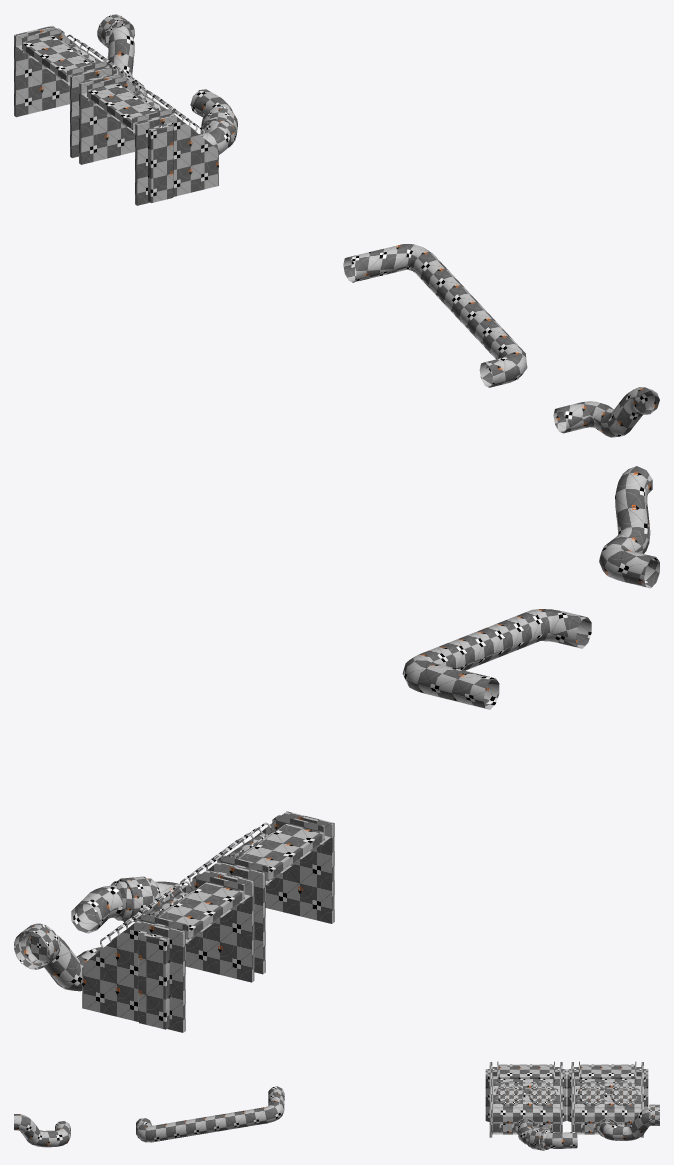
The model's file is Props_08.FBX.
The picture shows the model from 3 angles, top to bottom: view 1: azimuth 30°, elevation 25°; view 2: azimuth 150°, elevation 25°; view 3: azimuth 270°, elevation 25°; orthographic projection. The views are drawn at different scales.
Parts seen in each view (by area): view 1: Object36272, Object36274, Object36273, Object36275, Object36276, Object36277; view 2: Object36273, Object36272, Object36274, Object36275, Object36276, Object36277, Object36278; view 3: Object36272, Object36273, Object36274, Object36276, Object36275, Object36277, Object36278.
Boxes of the visible parts, x1=… form: Object36272: x1=79, y1=73, x2=218, y2=205; Object36274: x1=343, y1=244, x2=527, y2=387; Object36273: x1=14, y1=25, x2=139, y2=157; Object36275: x1=553, y1=387, x2=659, y2=437; Object36276: x1=190, y1=89, x2=237, y2=154; Object36277: x1=107, y1=25, x2=147, y2=95; Object36273: x1=82, y1=870, x2=254, y2=1032; Object36272: x1=180, y1=811, x2=334, y2=974; Object36274: x1=402, y1=609, x2=591, y2=709; Object36275: x1=599, y1=466, x2=659, y2=588; Object36276: x1=71, y1=876, x2=186, y2=933; Object36277: x1=20, y1=932, x2=102, y2=991; Object36278: x1=14, y1=923, x2=59, y2=969; Object36272: x1=485, y1=1061, x2=566, y2=1137; Object36273: x1=567, y1=1061, x2=648, y2=1137; Object36274: x1=136, y1=1086, x2=284, y2=1142; Object36276: x1=518, y1=1121, x2=577, y2=1150; Object36275: x1=14, y1=1114, x2=70, y2=1147; Object36277: x1=599, y1=1108, x2=649, y2=1140; Object36278: x1=649, y1=1104, x2=659, y2=1125.
Size of the model in its own units: 88.69 by 47.62 by 540.
